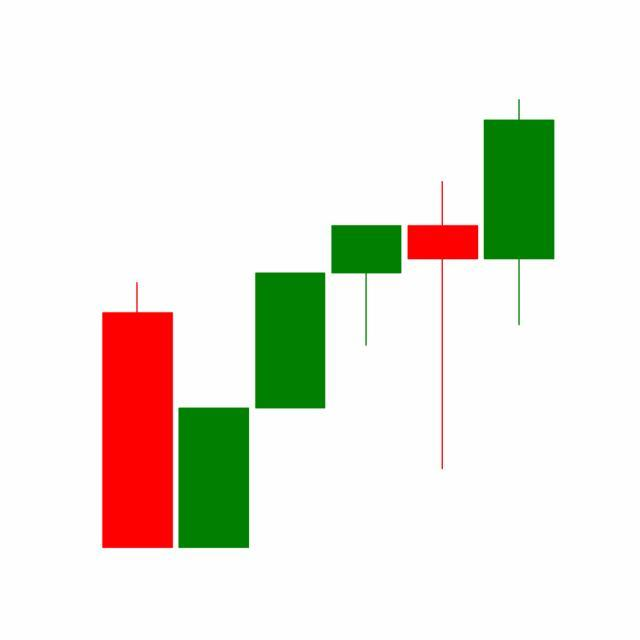Spinning Top: (404, 179, 482, 473)
